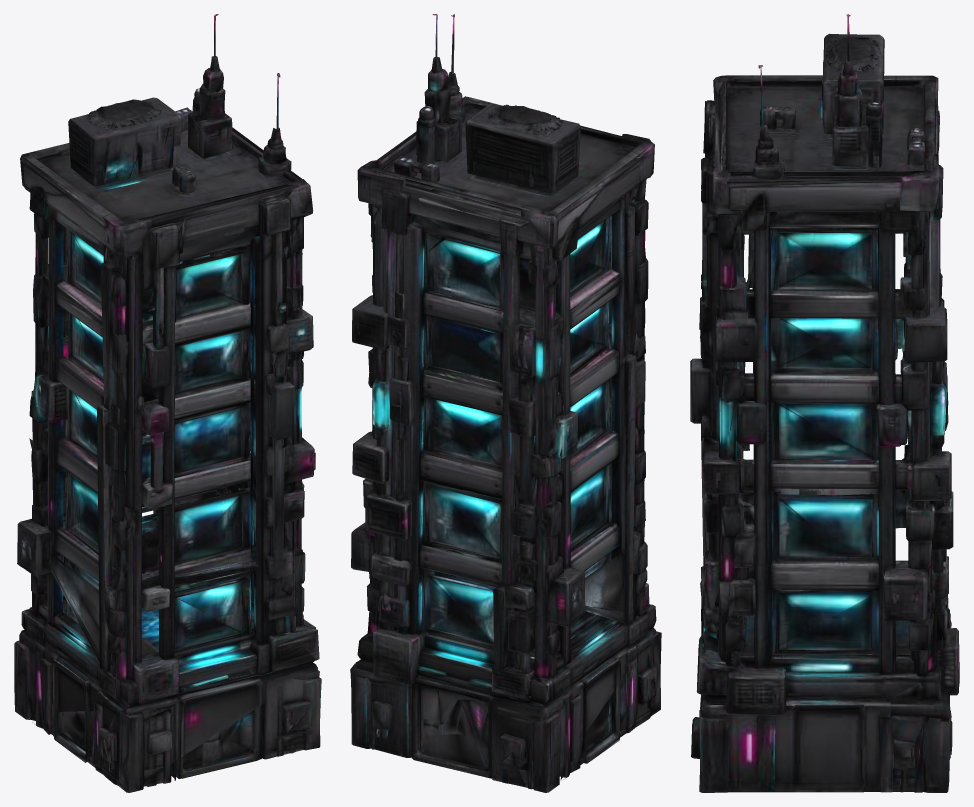
The model's file is cyber-tower-tall-v2.glb.
3 views of the same model, side by side, from view 1: azimuth 30°, elevation 25°; view 2: azimuth 150°, elevation 25°; view 3: azimuth 270°, elevation 25° (orthographic). The views are drawn at different scales.
Parts seen in each view (by area): view 1: Mesh_0; view 2: Mesh_0; view 3: Mesh_0.
Boxes of the visible parts, box(x1,y1,x2,y2) form: Mesh_0: box(14, 14, 321, 792); Mesh_0: box(350, 14, 661, 792); Mesh_0: box(690, 14, 959, 792).
Bounding box in the file's own units: 16.11 × 50 × 16.11.
Materials: 1 (1 with a texture image).
